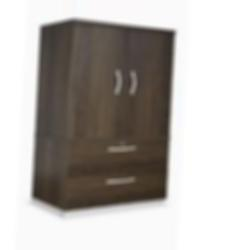Armario: (22, 24, 178, 215)
